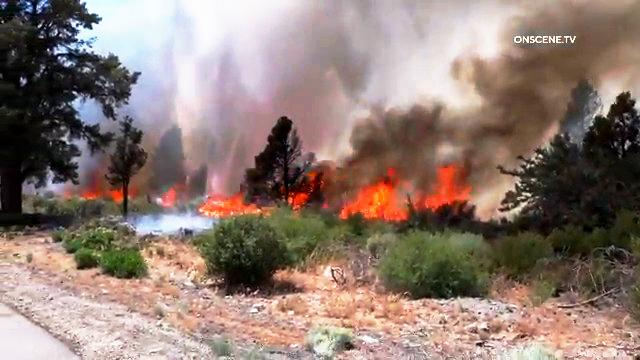fire: (337, 166, 402, 237), (414, 159, 469, 215), (197, 182, 255, 228)
smoke: (176, 0, 330, 125), (334, 2, 505, 95), (341, 86, 550, 157), (460, 46, 571, 128)
